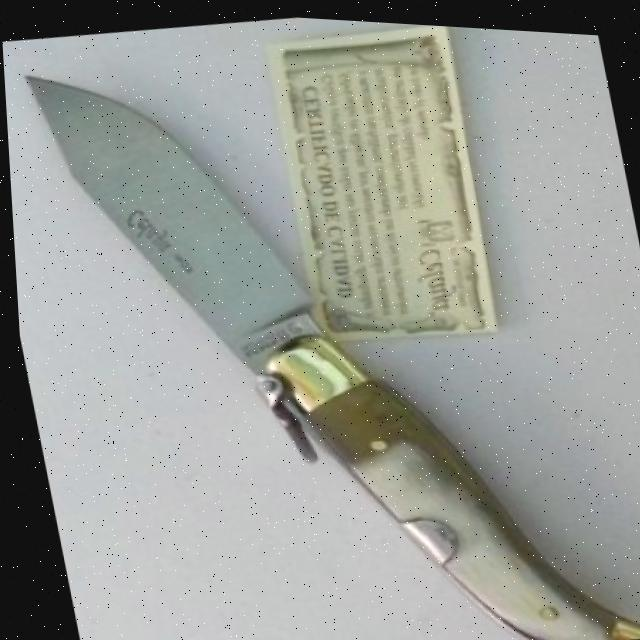knife: (13, 1, 640, 640)
